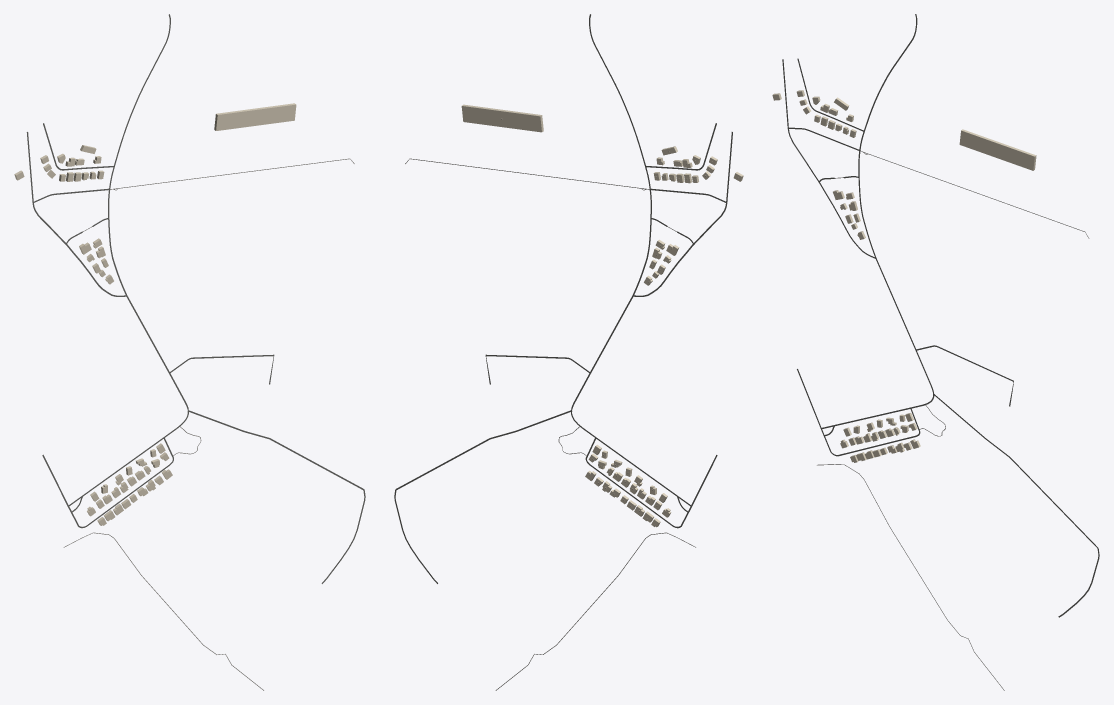
Rendered from historic-palestine-12_33_3542_3274.glb.
3 renders of one model, left to right at view 1: azimuth 30°, elevation 25°; view 2: azimuth 150°, elevation 25°; view 3: azimuth 330°, elevation 25°, orthographic. The views are drawn at different scales.
Parts seen in each view (by area): view 1: Building_.049, Road, Road אסיף; view 2: Building_.049, Road, Road אסיף; view 3: Building_.049, Road.
Boxes of the visible parts, x1,y1,x2,y2 form: Building_.049: [214, 103, 296, 130]; Road: [126, 295, 364, 490]; Road אסיף: [108, 14, 170, 296]; Building_.049: [461, 104, 543, 132]; Road: [395, 296, 633, 490]; Road אסיף: [589, 14, 651, 295]; Building_.049: [959, 129, 1036, 170]; Road: [876, 258, 1097, 548].
Bounding box in the file's own units: 839 × 1606 × 8.7.
